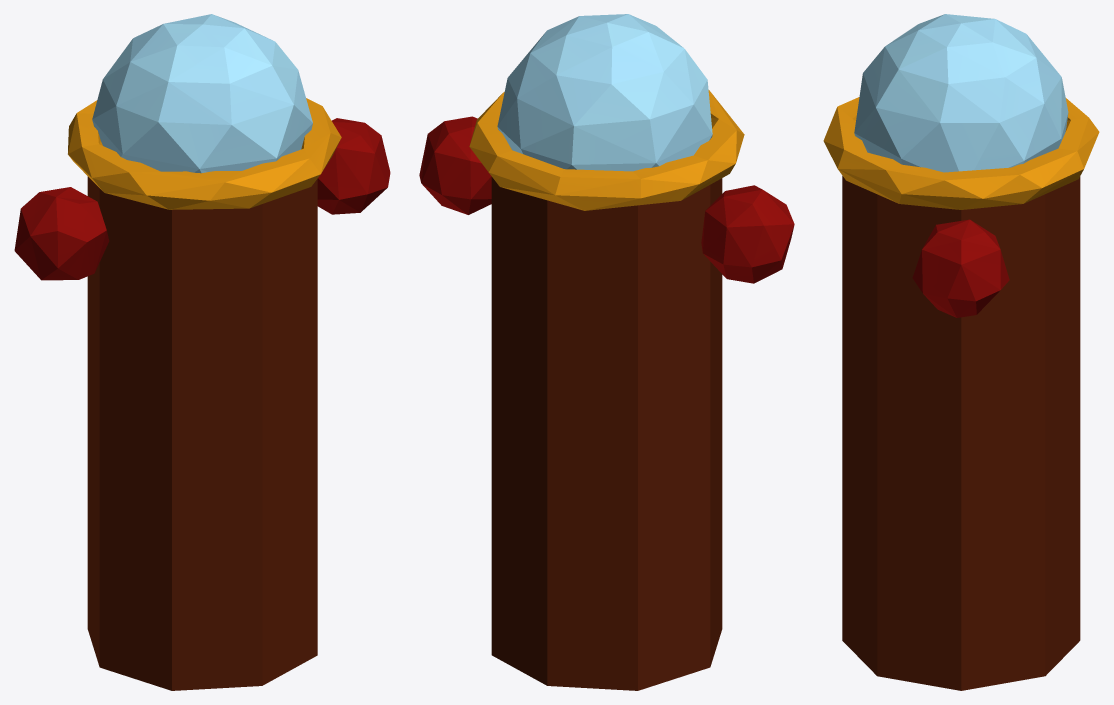
Rendered from upgrade_brass_compass.three-web-toon.lod50.glb.
The picture shows the model from 3 angles, left to right: view 1: azimuth 30°, elevation 25°; view 2: azimuth 150°, elevation 25°; view 3: azimuth 270°, elevation 25°; orthographic projection.
Visible parts, largest first — view 1: upgrade_brass_compass_mesh_lod; view 2: upgrade_brass_compass_mesh_lod; view 3: upgrade_brass_compass_mesh_lod.
Part boxes in pixels (x1,y1,x2,y2): upgrade_brass_compass_mesh_lod: (14, 14, 390, 690); upgrade_brass_compass_mesh_lod: (419, 14, 794, 690); upgrade_brass_compass_mesh_lod: (823, 14, 1099, 690).
Size of the model in its own units: 0.7722 by 1.26 by 0.5107.
